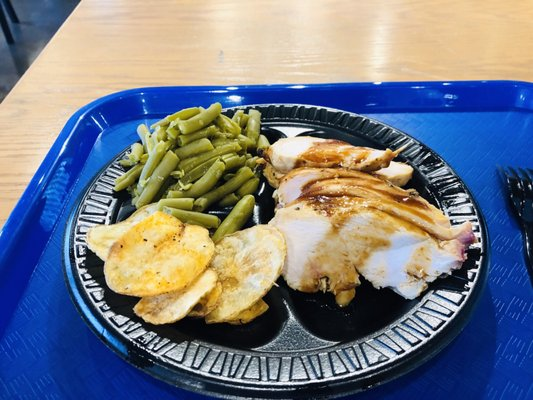burger: (498, 165, 533, 292)
